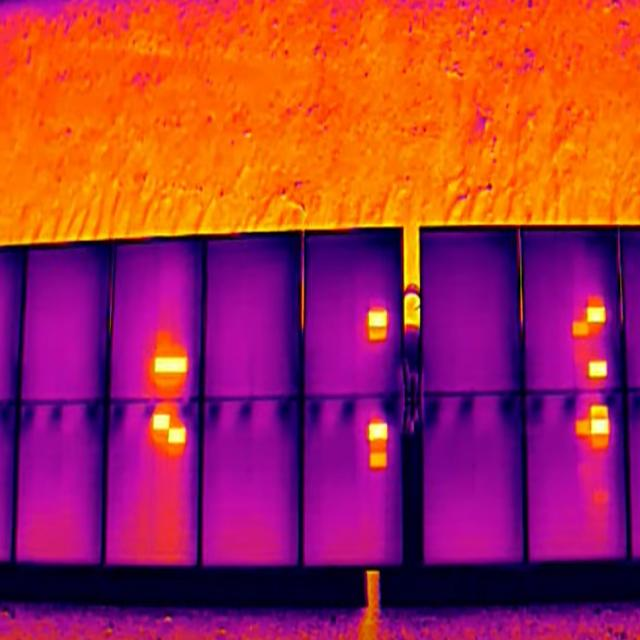hotspot group: (145, 333, 190, 385), (569, 402, 616, 451), (147, 403, 192, 454), (569, 296, 609, 342), (360, 296, 393, 350), (365, 415, 392, 472), (584, 356, 611, 379)
panel with hotspots: (525, 389, 630, 569), (519, 223, 628, 393), (303, 223, 405, 397), (301, 396, 405, 566), (108, 229, 207, 400), (103, 395, 200, 566)
